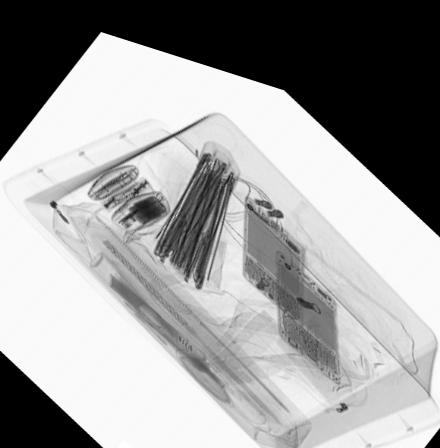Powerbank: (107, 183, 177, 226)
